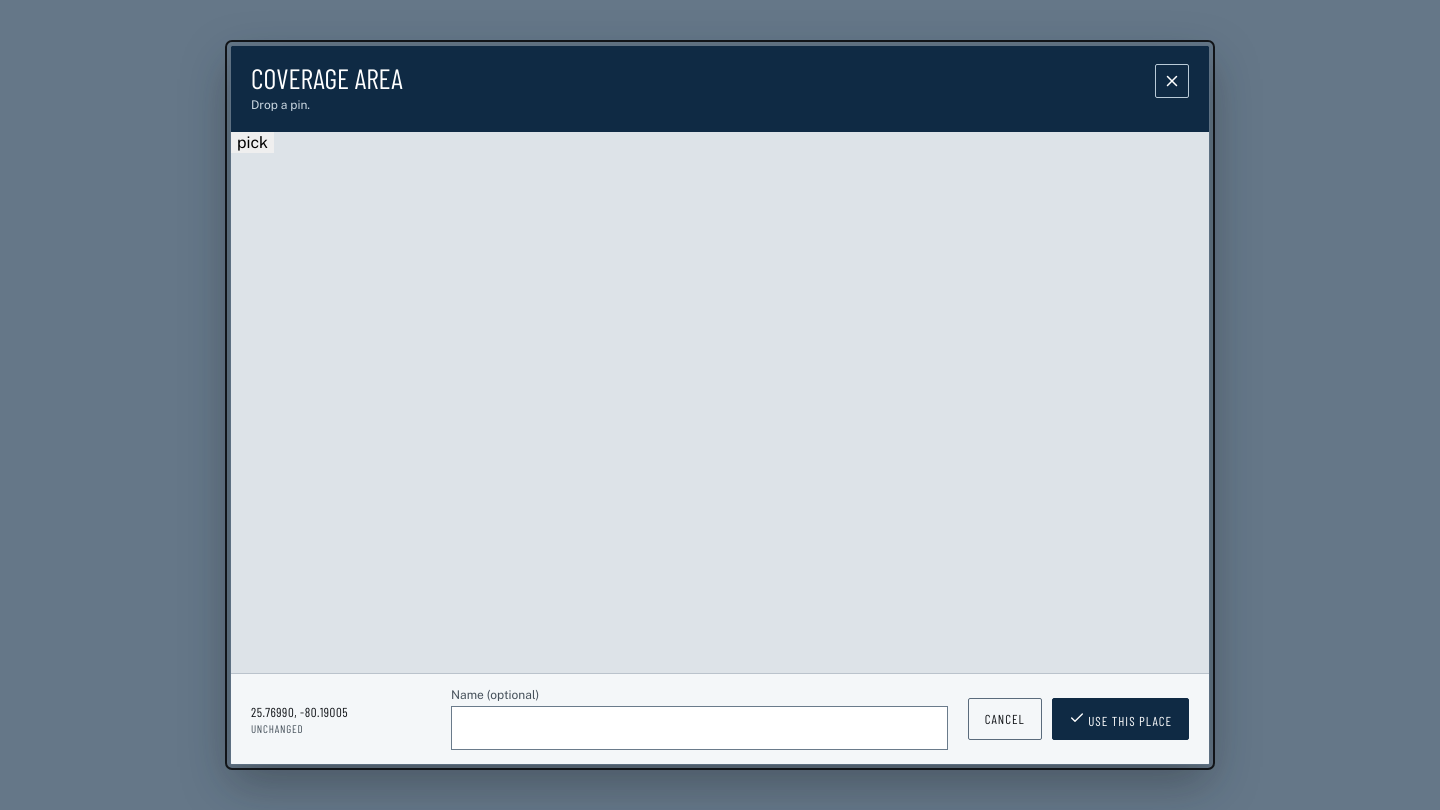
Test case: the location picker › stages a move without applying it
Step 1. Click the button with test id "map-pick" → (253, 143), box [231, 132, 274, 153]
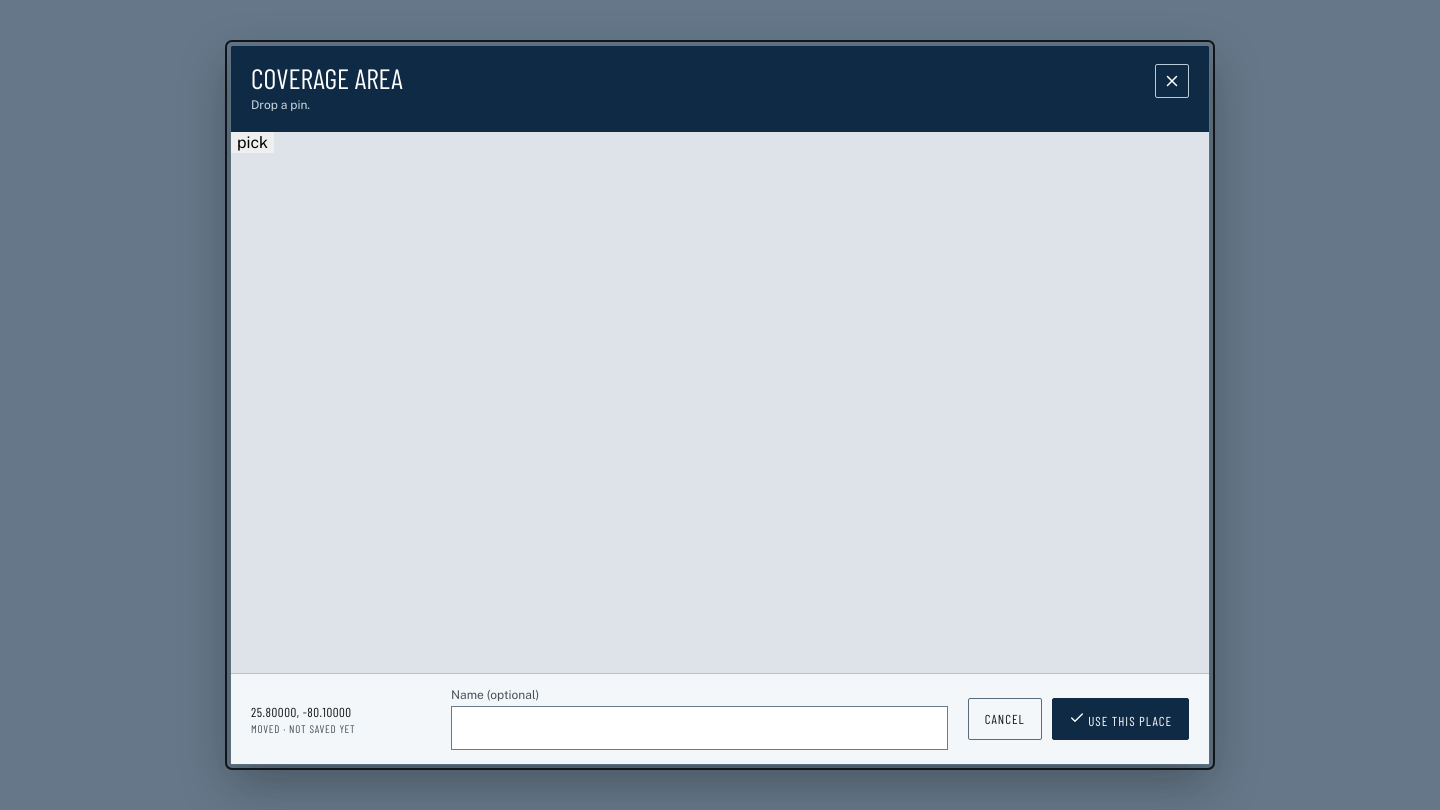
Result: the text "25.80000, -80.10000" is shown at [251, 704, 352, 720]
Result: the text "Moved · not saved yet" is shown at [251, 722, 356, 734]
